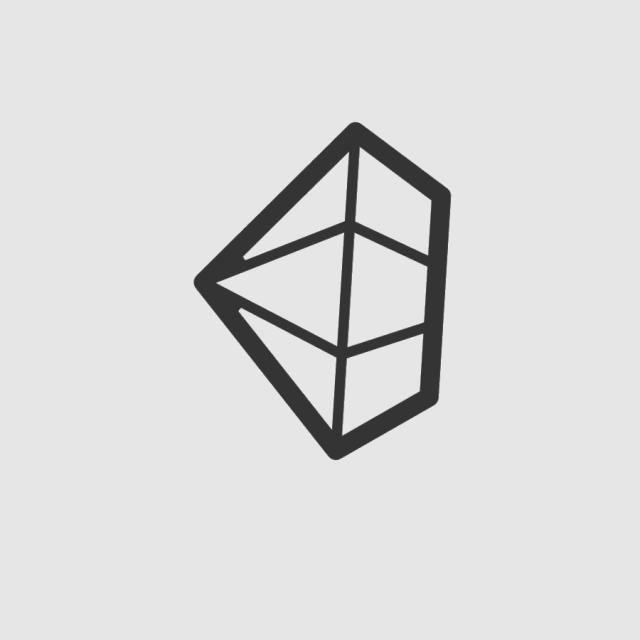diamond: (188, 118, 457, 471)
